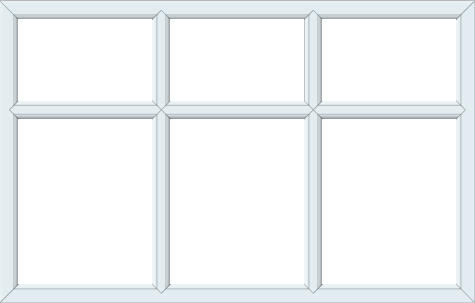Window: (8, 10, 467, 294)
